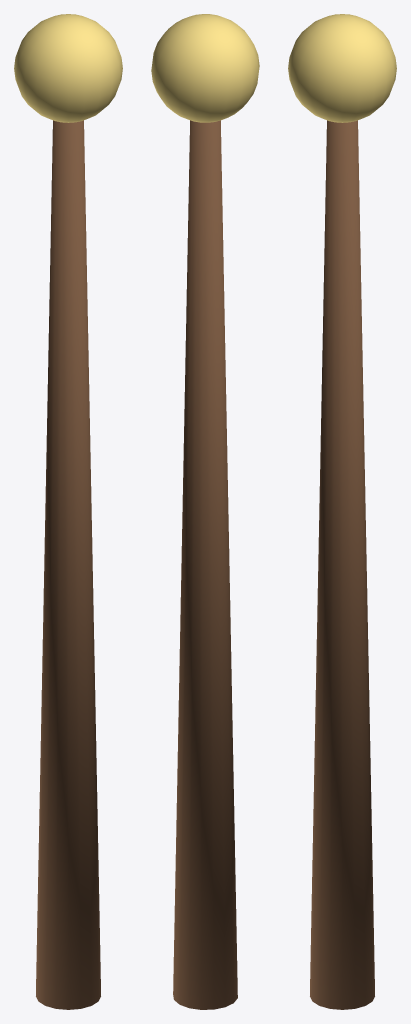
Rendered from wand.glb.
3 renders of one model, left to right at view 1: azimuth 90°, elevation 25°; view 2: azimuth 150°, elevation 25°; view 3: azimuth 270°, elevation 25°, orthographic.
Visible parts, largest first — view 1: wand; view 2: wand; view 3: wand.
Boxes of the visible parts, x1=… form: wand: x1=14, y1=14, x2=122, y2=1009; wand: x1=151, y1=14, x2=259, y2=1009; wand: x1=288, y1=14, x2=396, y2=1009.
Bounding box in the file's own units: 0.101 × 1 × 0.101.
